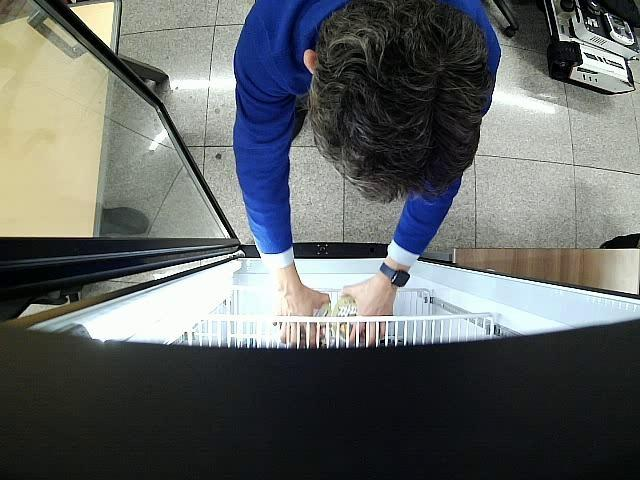03_chapagetti_L: (332, 294, 365, 342), (300, 302, 332, 346)
